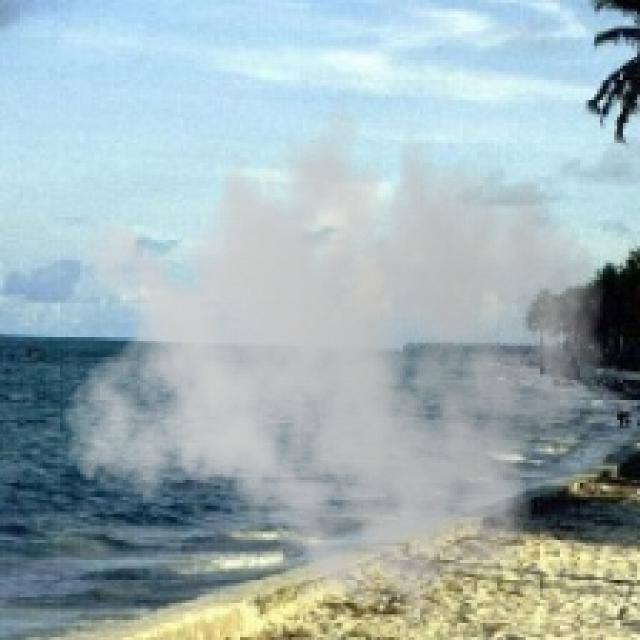smoke: (60, 72, 606, 637)
